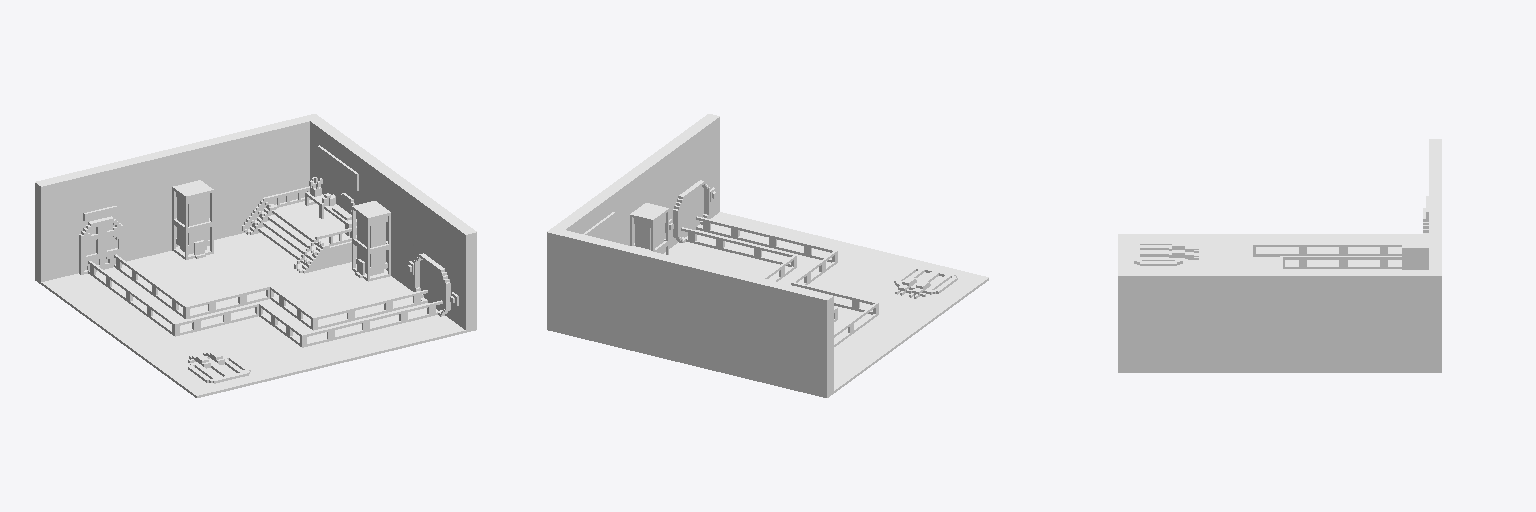
File: Laboratory.obj
The picture shows the model from 3 angles: view 1: azimuth 30°, elevation 25°; view 2: azimuth 150°, elevation 25°; view 3: azimuth 270°, elevation 25°; orthographic projection.
Parts seen in each view (by area): view 1: object 1; view 2: object 1; view 3: object 1.
Part boxes in pixels (x1,y1,x2,y2): object 1: (35,114,476,397); object 1: (547,114,988,397); object 1: (1118,139,1441,372).
Bounding box in the file's own units: 12 × 4 × 12.